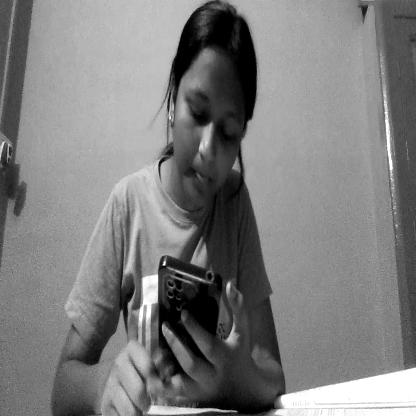Distracted: (162, 5, 264, 229)
